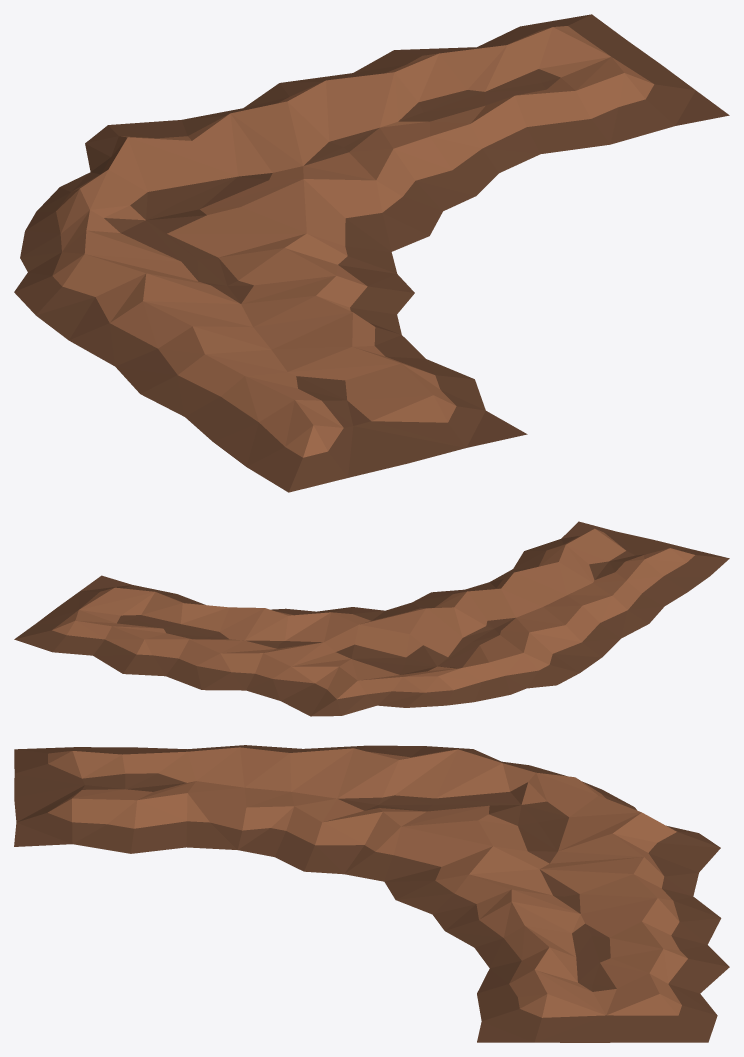
Rendered from Road_Mud_2.fbx.
3 renders of one model, top to bottom at view 1: azimuth 30°, elevation 25°; view 2: azimuth 150°, elevation 25°; view 3: azimuth 270°, elevation 25°, orthographic. The views are drawn at different scales.
Visible parts, largest first — view 1: Road_Mud_2; view 2: Road_Mud_2; view 3: Road_Mud_2.
Boxes of the visible parts, box(x1,y1,x2,y2) form: Road_Mud_2: box(14, 14, 729, 492); Road_Mud_2: box(14, 521, 729, 716); Road_Mud_2: box(14, 745, 729, 1042).
Bounding box in the file's own units: 6.09 × 0.2556 × 6.19.
